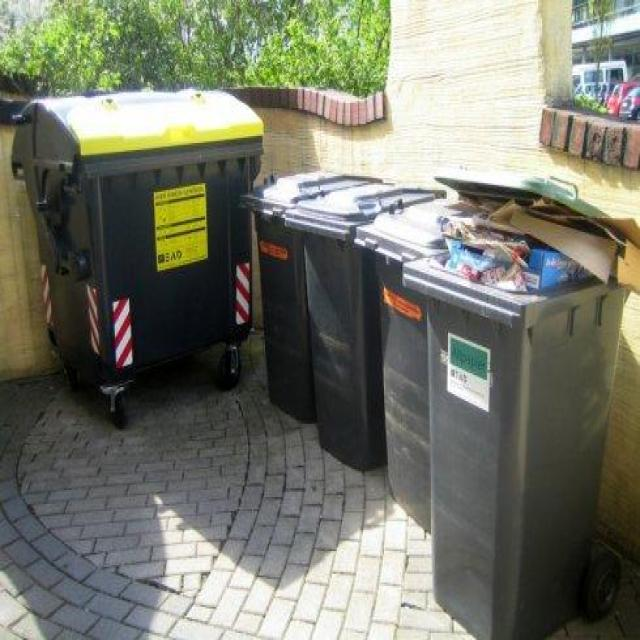garbage_bin: (9, 89, 264, 380), (283, 180, 447, 472), (236, 171, 382, 422), (353, 195, 457, 534)
overflow: (401, 173, 639, 638)
